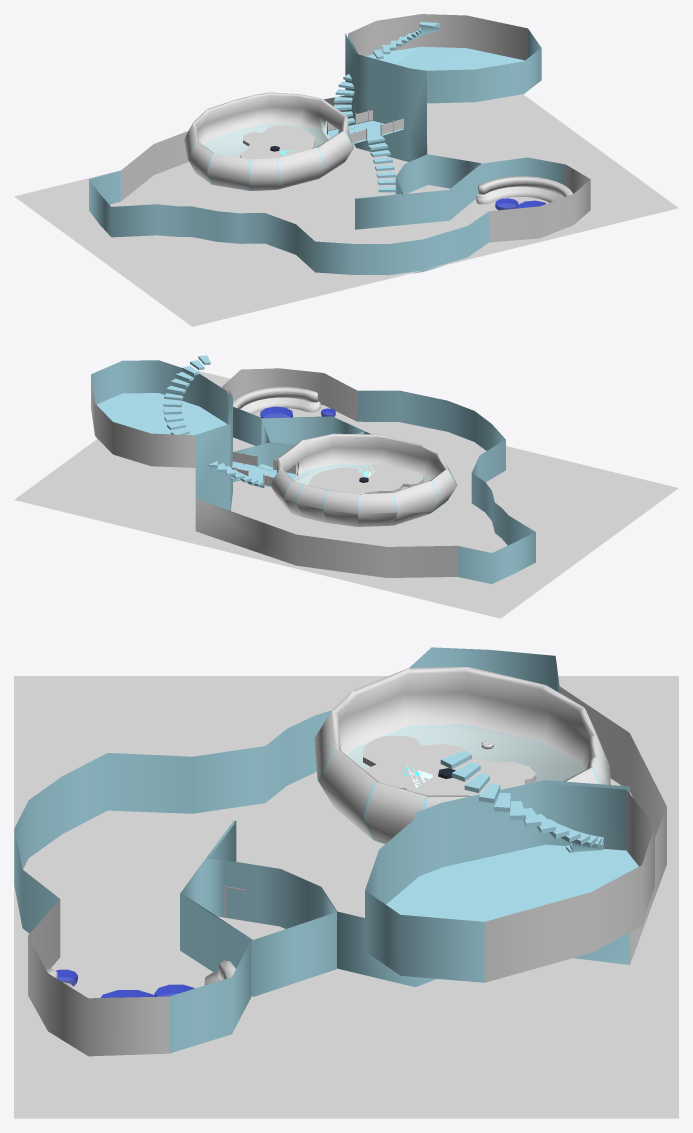
Rendered from office.fbx.
3 renders of one model, top to bottom at view 1: azimuth 30°, elevation 25°; view 2: azimuth 150°, elevation 25°; view 3: azimuth 270°, elevation 25°, orthographic. The views are drawn at different scales.
Visible parts, largest first — view 1: floor, walls, conf_rom, conference_table, stairs_third, sofa_rest, stairs_second, sofa, floor_second; view 2: floor, walls, conf_rom, conference_table, stairs_third, sofa_rest, sofa, floor_second; view 3: floor, walls, conf_rom, conference_table, stairs_third.
Part boxes in pixels (x1,y1,x2,y2): floor: [14, 94, 678, 326]; walls: [89, 14, 590, 275]; conf_rom: [184, 92, 353, 190]; conference_table: [240, 125, 314, 159]; stairs_third: [334, 22, 439, 129]; sofa_rest: [478, 176, 573, 197]; stairs_second: [365, 135, 395, 192]; sofa: [476, 186, 562, 204]; floor_second: [328, 120, 403, 144]; floor: [14, 370, 678, 618]; walls: [91, 360, 535, 584]; conf_rom: [270, 433, 457, 526]; conference_table: [308, 463, 423, 494]; stairs_third: [163, 355, 265, 487]; sofa_rest: [233, 386, 318, 408]; sofa: [240, 397, 320, 414]; floor_second: [231, 461, 295, 487]; floor: [14, 676, 678, 1118]; walls: [14, 647, 666, 1056]; conf_rom: [314, 667, 610, 844]; conference_table: [363, 735, 536, 795]; stairs_third: [440, 750, 603, 853].
Bounding box in the file's own units: 62.42 × 16.14 × 39.63.
